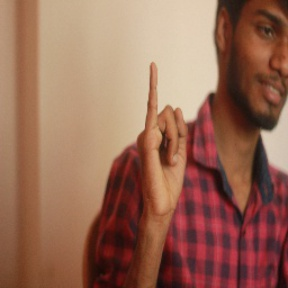I: (136, 62, 192, 215)
